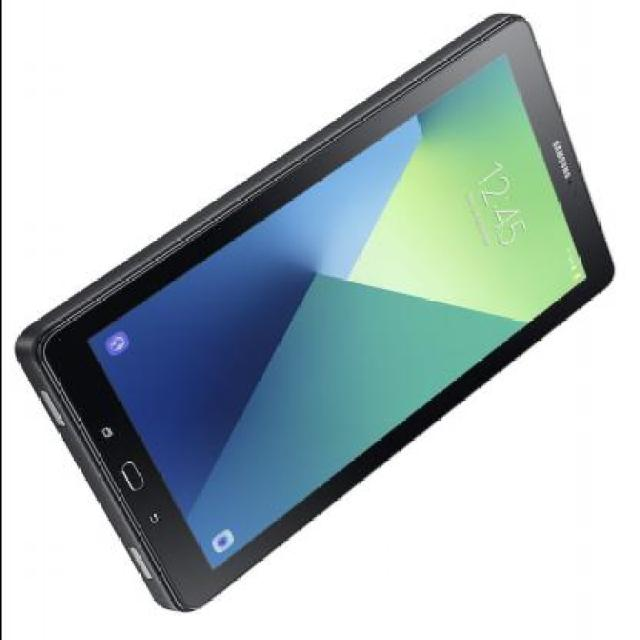tablet: (42, 7, 616, 592)
